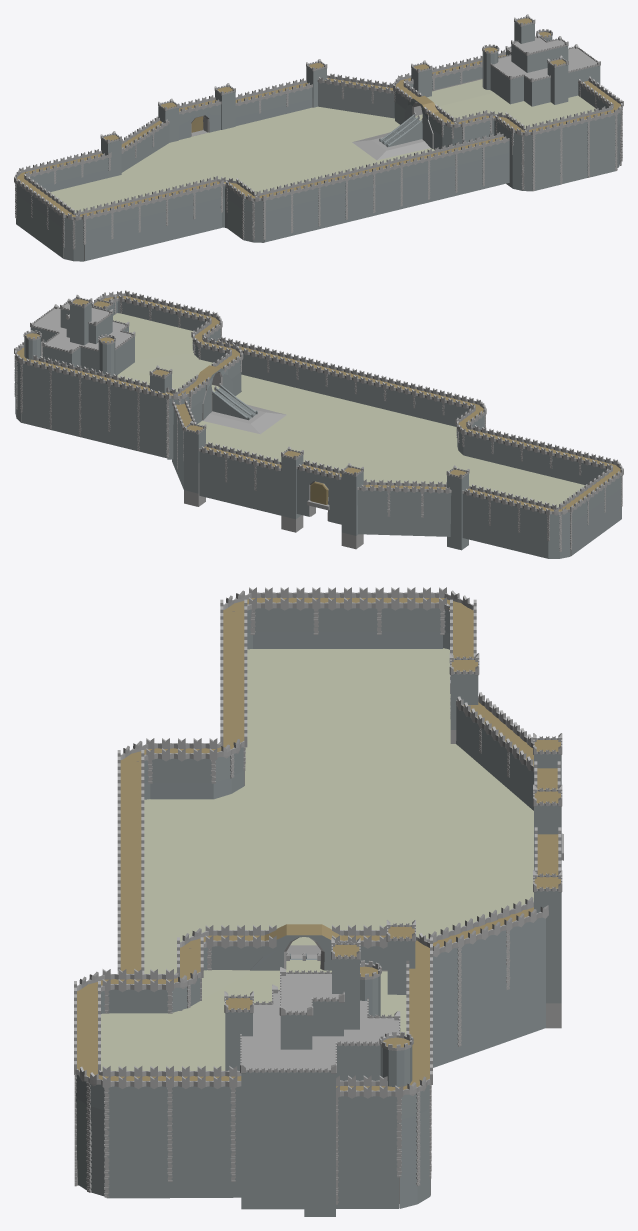
The model's file is castle_low_poly.glb.
3 renders of one model, top to bottom at view 1: azimuth 30°, elevation 25°; view 2: azimuth 150°, elevation 25°; view 3: azimuth 270°, elevation 25°, orthographic. The views are drawn at different scales.
Parts seen in each view (by area): view 1: Cube.001; view 2: Cube.001; view 3: Cube.001.
Boxes of the visible parts, box(x1,y1,x2,y2) form: Cube.001: box(14, 14, 623, 261); Cube.001: box(14, 290, 623, 558); Cube.001: box(74, 587, 563, 1216).
Bounding box in the file's own units: 20.8 × 4.41 × 8.24.
